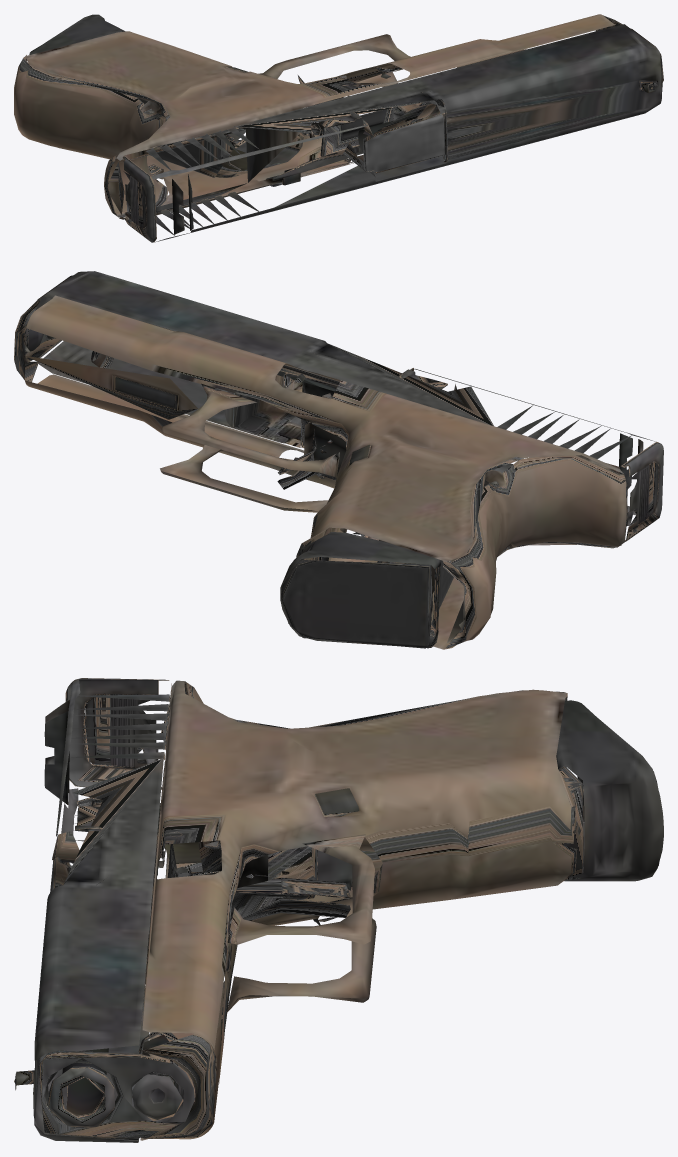
File: w_glock18.glb
3 views of the same model, one above another, from view 1: azimuth 30°, elevation 25°; view 2: azimuth 150°, elevation 25°; view 3: azimuth 270°, elevation 25° (orthographic). The views are drawn at different scales.
Parts seen in each view (by area): view 1: w_glock18; view 2: w_glock18; view 3: w_glock18.
Part boxes in pixels (x1=…): w_glock18: x1=14, y1=14, x2=663, y2=242; w_glock18: x1=14, y1=271, x2=663, y2=649; w_glock18: x1=14, y1=678, x2=663, y2=1142.
Bounding box in the file's own units: 0.3242 × 0.0539 × 0.2189.
1 material, 1 textured.
